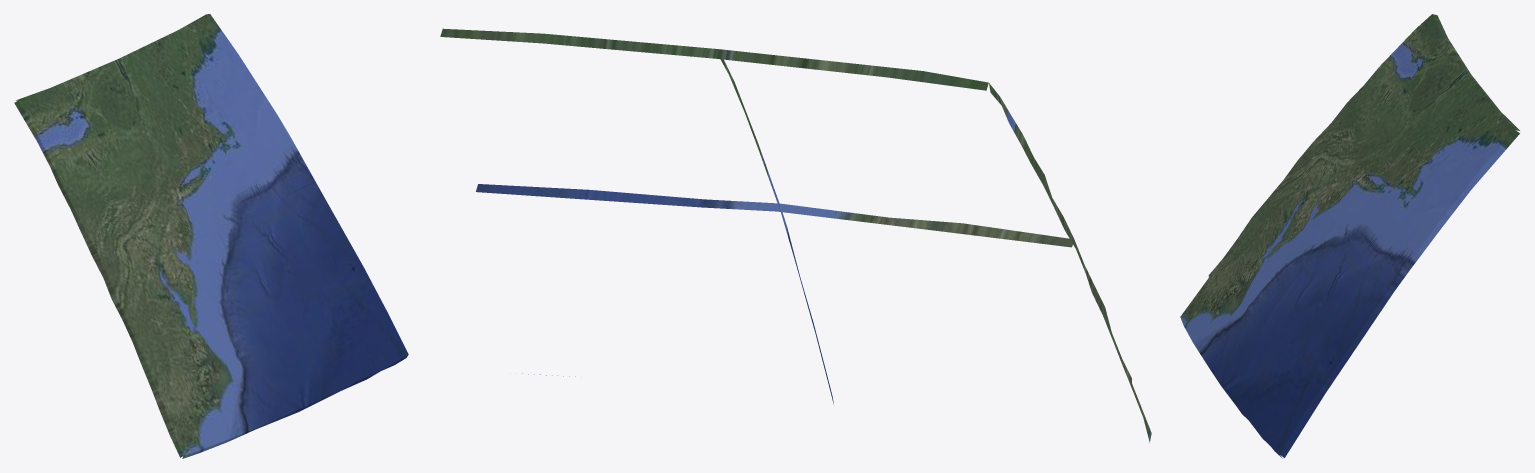
The model's file is AJVsH2w_D8CgsL6sBSRgBJ2xZCYHnGwXdraehuxfLfBt7Uhp9cDG6NdqYiktVw4v90avMOMS8TT7lgc2P-xVEK0yKIFrA4ejqNVtmuNCYN5lhMpD3tUoUuYQ2iWWUM_-QMsJXODbc3E6.glb.
The picture shows the model from 3 angles, left to right: view 1: azimuth 30°, elevation 25°; view 2: azimuth 150°, elevation 25°; view 3: azimuth 270°, elevation 25°; orthographic projection. The views are drawn at different scales.
Bounding box in the file's own units: 1166057 × 987458 × 1053875.
1 material, 1 textured.
